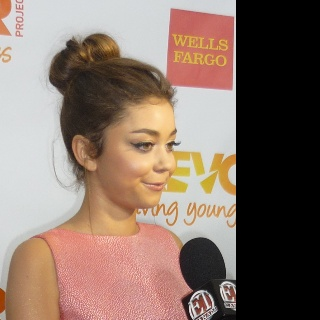without_mask: (96, 96, 178, 208)
